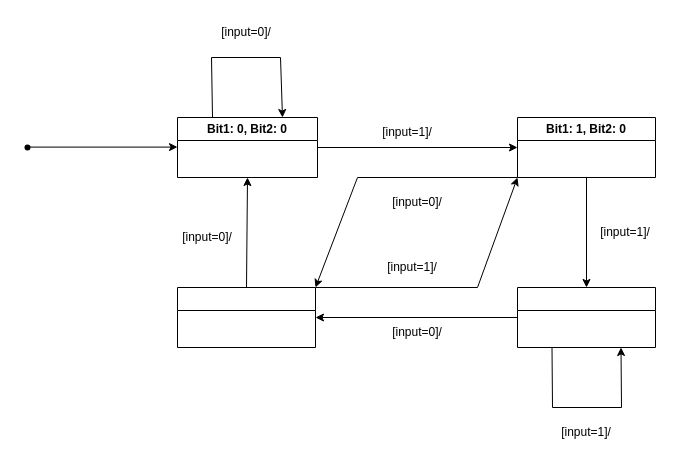
The diagram is 673 pixels wide and 464 high, and some of its shapes have lost their labels. The box of each missing label's shape, as (x1, y1, x2, y2) in pixels:
Bit1: 0, Bit2: 1: (176, 286, 316, 348)
Bit1: 1, Bit2: 1: (516, 286, 656, 348)
